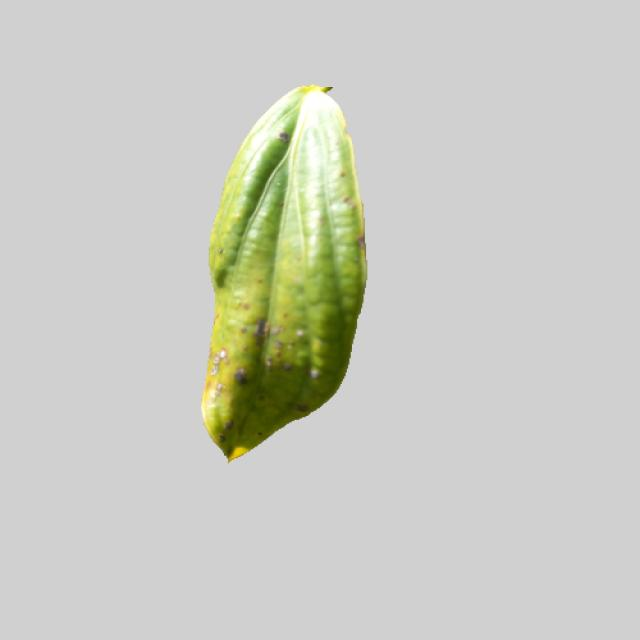yellow-mottle-virus: (197, 84, 366, 463)
